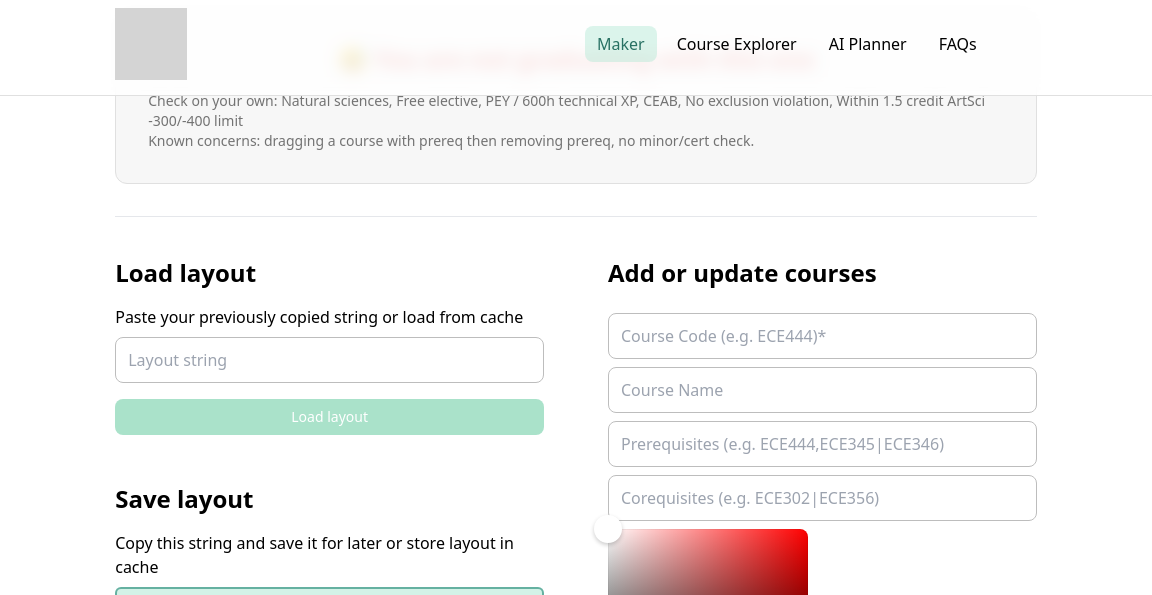
Test case: Sixth column › shows itself when a layout has a sixth course, and refuses to hide while filled
(page scrolled)
Type "AAA111One%%$$BBB222Two%%$$CCC333Three%%$$DDD444Four%%$$EEE555Five%%$$FFF666Six%%" into the field with placeholder "Layout string".
click(330, 360); type("AAA111One%%$$BBB222Two%%$$CCC333Three%%$$DDD444Four%%$$EEE555Five%%$$FFF666Six%%")  # box [115,337,544,383]
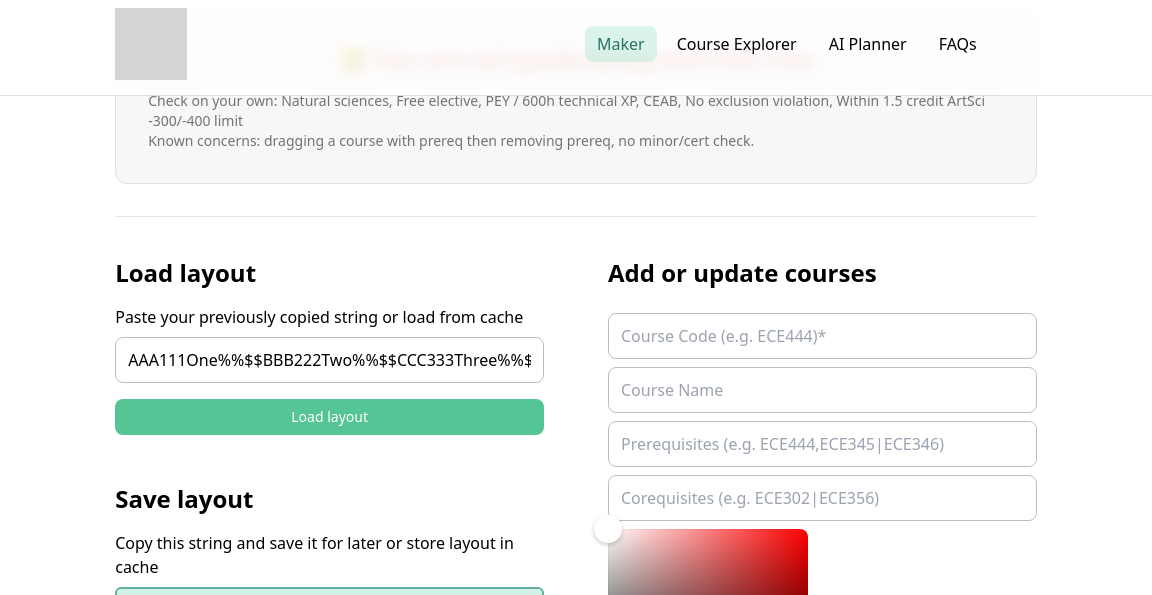
Click the button with test id "load-layout".
click(330, 417)  # box [115,399,544,435]
(page scrolled)
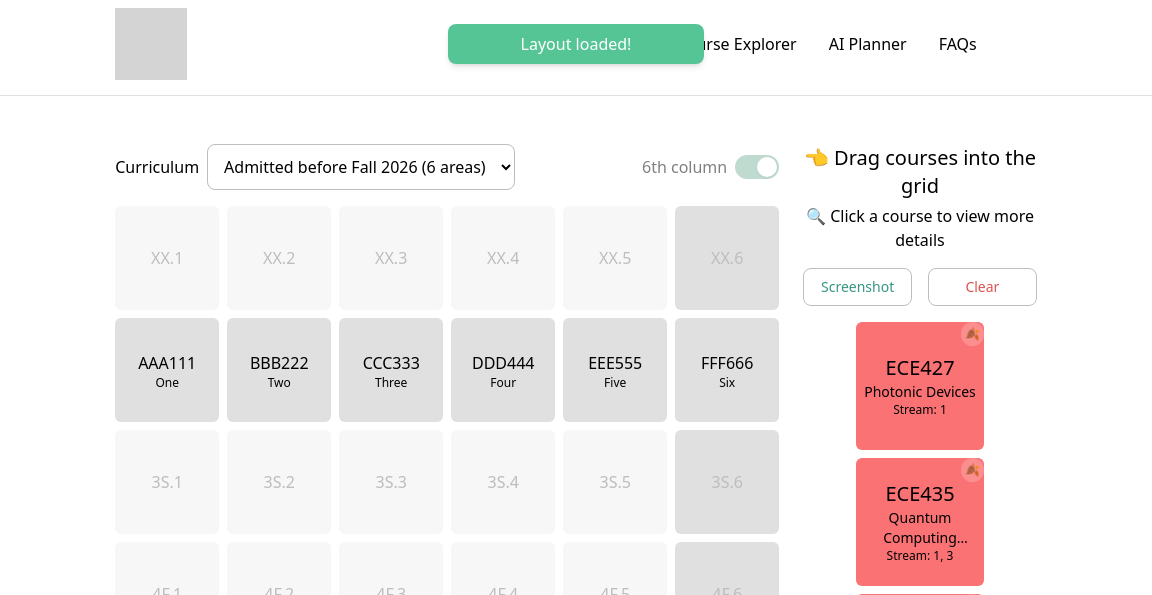
Result: the heading "FFF666" is shown at [701,350,753,374]
Click the switch with test id "toggle-sixth".
click(711, 167)  # box [642,155,779,179]
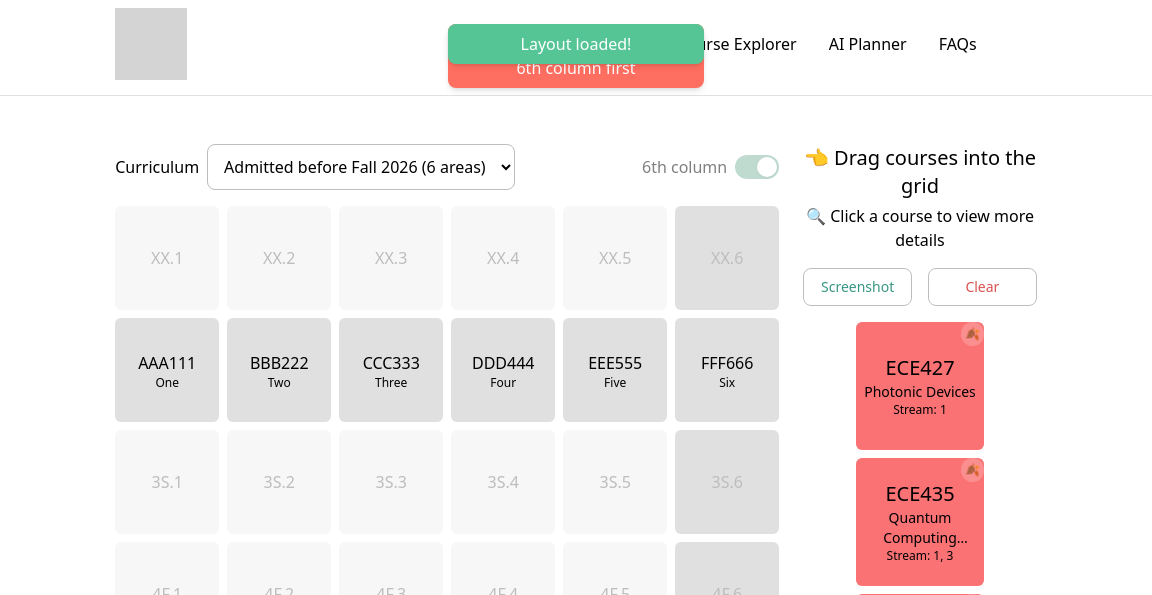
Result: the text "Move the courses out of the 6th column first" is shown at [464,32,688,80]
